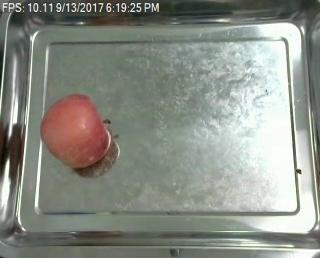apple: (40, 95, 114, 170)
